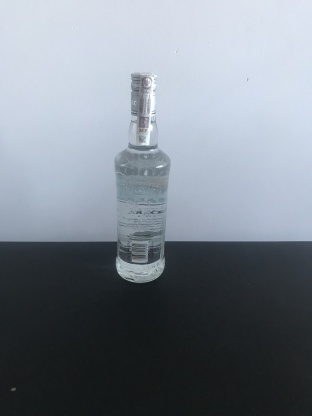nakretka: (128, 68, 159, 119)
